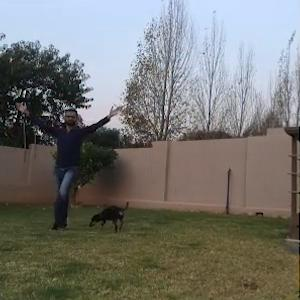takeoff: (25, 107, 130, 225)
